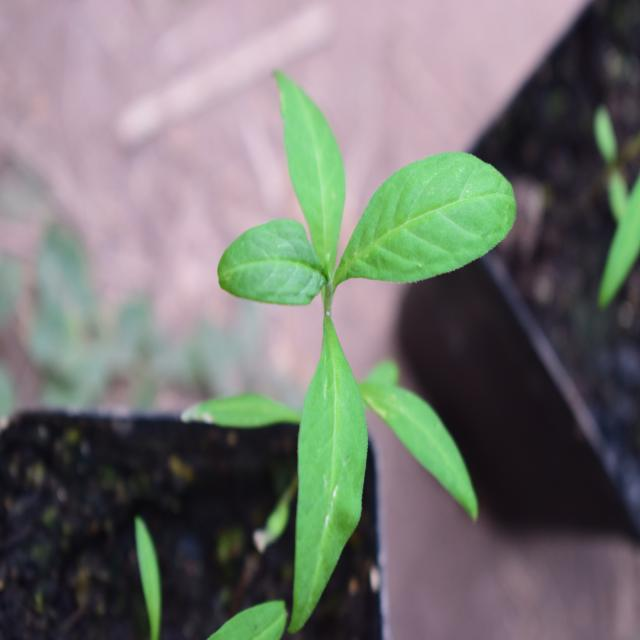white_smart_weed: (201, 42, 504, 608)
